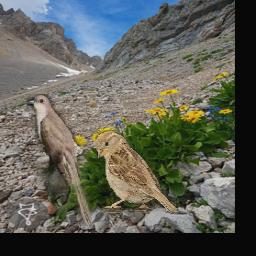Cuckoo: (28, 94, 93, 226)
Sparrow: (96, 131, 180, 214)
